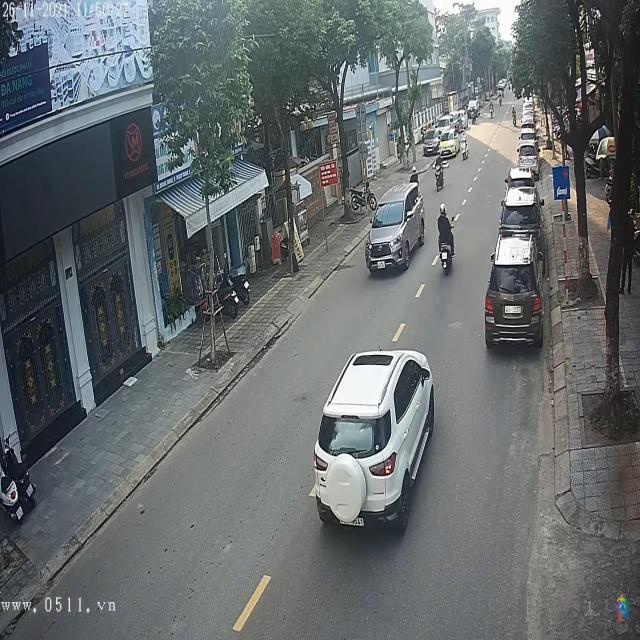car: (311, 351, 437, 528), (485, 241, 543, 349), (367, 182, 429, 277), (499, 189, 543, 238), (440, 125, 461, 161), (518, 147, 537, 171), (518, 130, 538, 148)
motorcycle: (436, 230, 456, 274), (434, 163, 446, 195)
